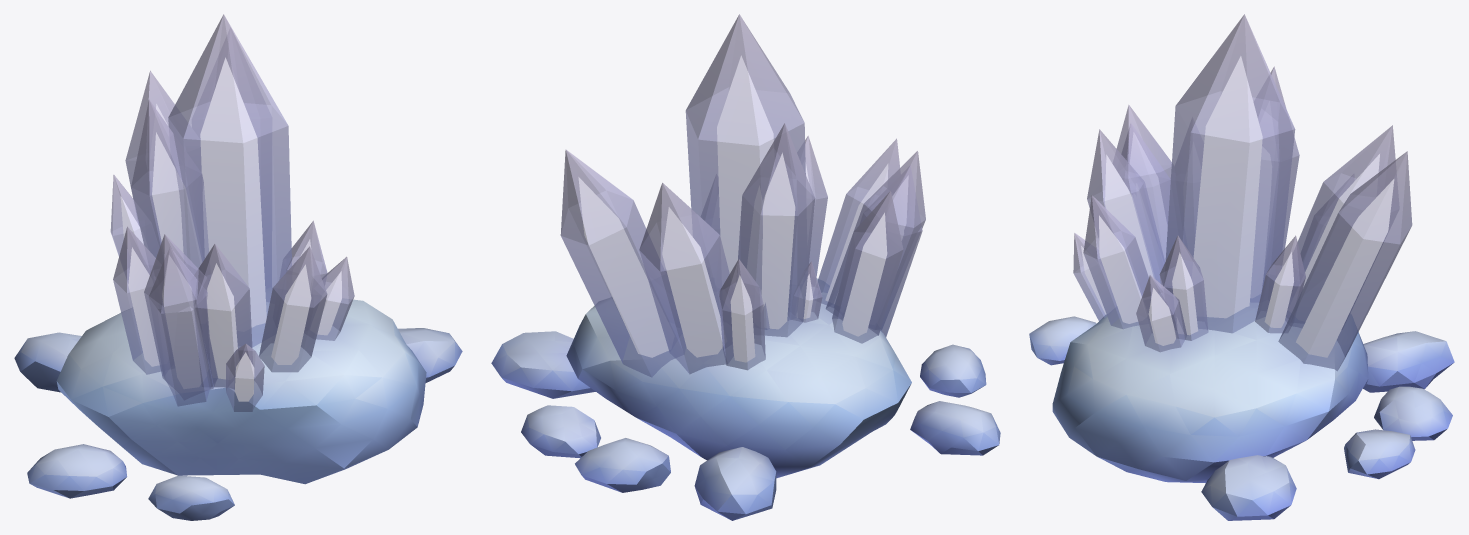
Rendered from glass_crystal_landmark.glb.
3 views of the same model, side by side, from view 1: azimuth 30°, elevation 25°; view 2: azimuth 150°, elevation 25°; view 3: azimuth 270°, elevation 25° (orthographic). The views are drawn at different scales.
Visible parts, largest first — view 1: glass_crystal_landmark; view 2: glass_crystal_landmark; view 3: glass_crystal_landmark.
Boxes of the visible parts, x1,y1,x2,y2 form: glass_crystal_landmark: (14, 14, 462, 520); glass_crystal_landmark: (491, 14, 1000, 520); glass_crystal_landmark: (1029, 14, 1454, 520).
Bounding box in the file's own units: 13.81 × 11.65 × 11.14.
